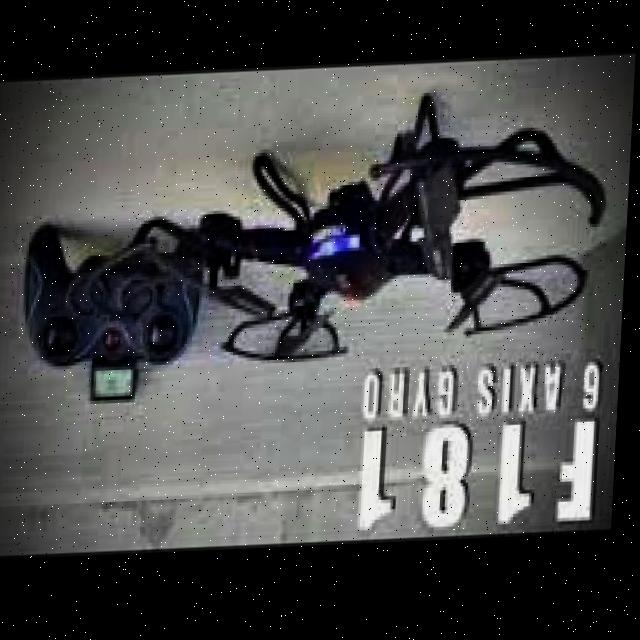drone: (139, 106, 614, 379)
